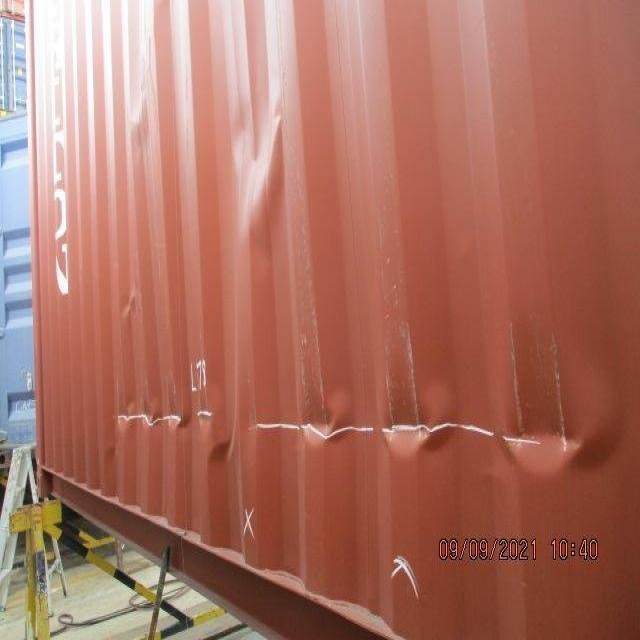dent: (100, 336, 623, 492), (188, 66, 314, 252), (122, 69, 169, 168)
